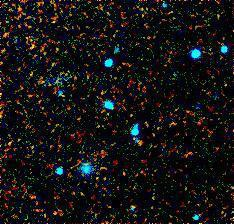star: (123, 131, 153, 161)
